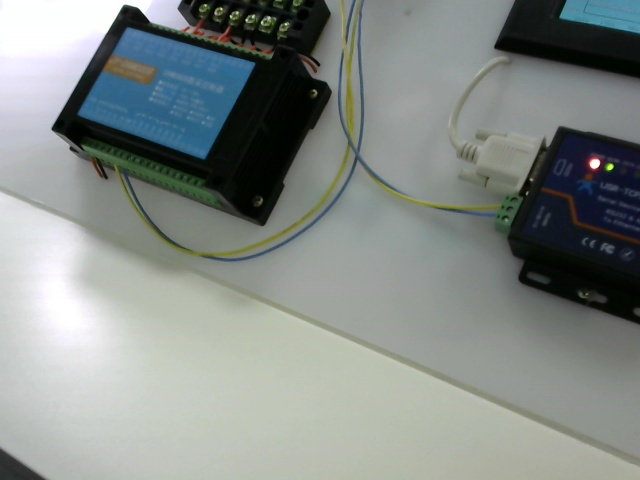relay: (23, 28, 351, 222)
